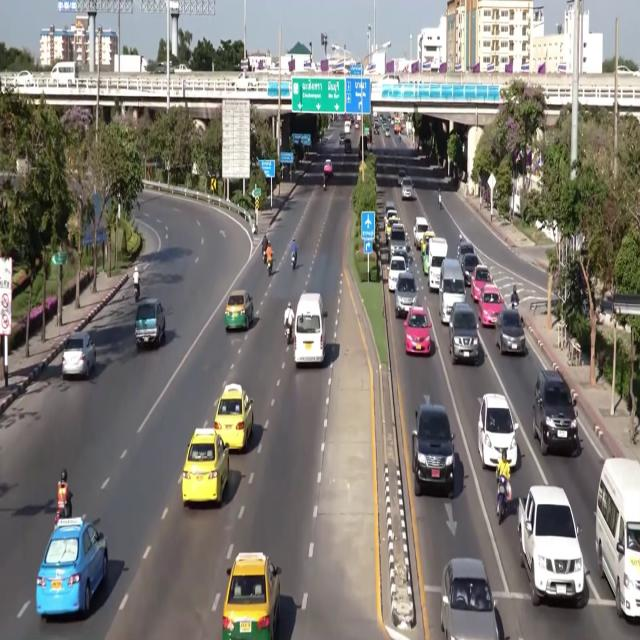car: (36, 518, 108, 619), (222, 553, 281, 639), (441, 558, 499, 639), (412, 403, 455, 495), (533, 370, 578, 455), (181, 428, 229, 505), (478, 394, 518, 469), (214, 384, 253, 450), (449, 303, 479, 364), (61, 332, 95, 379), (135, 299, 165, 348), (496, 306, 526, 354), (404, 307, 431, 354), (225, 290, 254, 330), (394, 271, 418, 318), (478, 283, 503, 326), (470, 264, 492, 302), (388, 256, 407, 292), (421, 231, 435, 274), (461, 254, 479, 287), (389, 224, 408, 255), (413, 216, 428, 249), (457, 240, 475, 266), (385, 209, 399, 238), (394, 248, 411, 270), (13, 71, 34, 86), (401, 176, 414, 199), (617, 66, 639, 77), (384, 200, 395, 218), (397, 168, 407, 186), (383, 74, 400, 83), (323, 160, 332, 175), (175, 64, 191, 72), (344, 138, 351, 153), (339, 133, 345, 144), (374, 124, 379, 135), (385, 128, 390, 137), (354, 122, 359, 129)
scooty: (496, 475, 508, 524), (54, 504, 71, 529), (134, 284, 140, 302), (286, 324, 291, 344), (267, 257, 272, 276), (291, 253, 296, 270), (511, 301, 518, 310), (263, 249, 266, 263)
truck: (518, 486, 585, 606), (427, 238, 447, 291), (114, 55, 146, 73), (344, 120, 350, 135)
